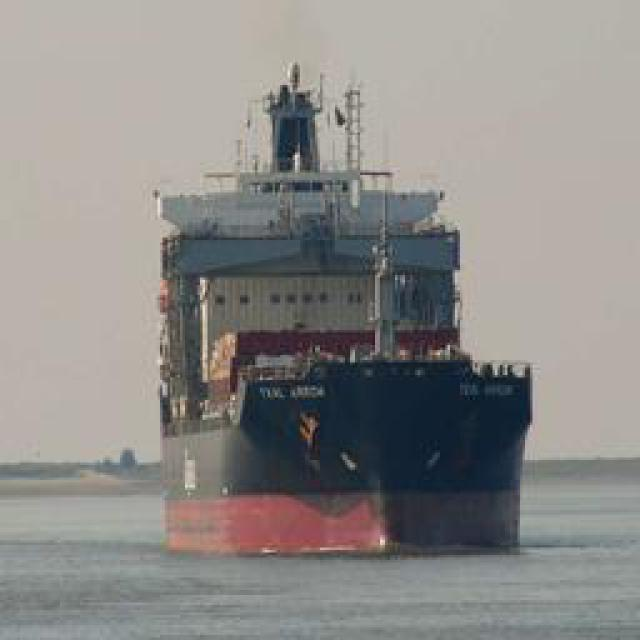Ship: (134, 61, 540, 578)
